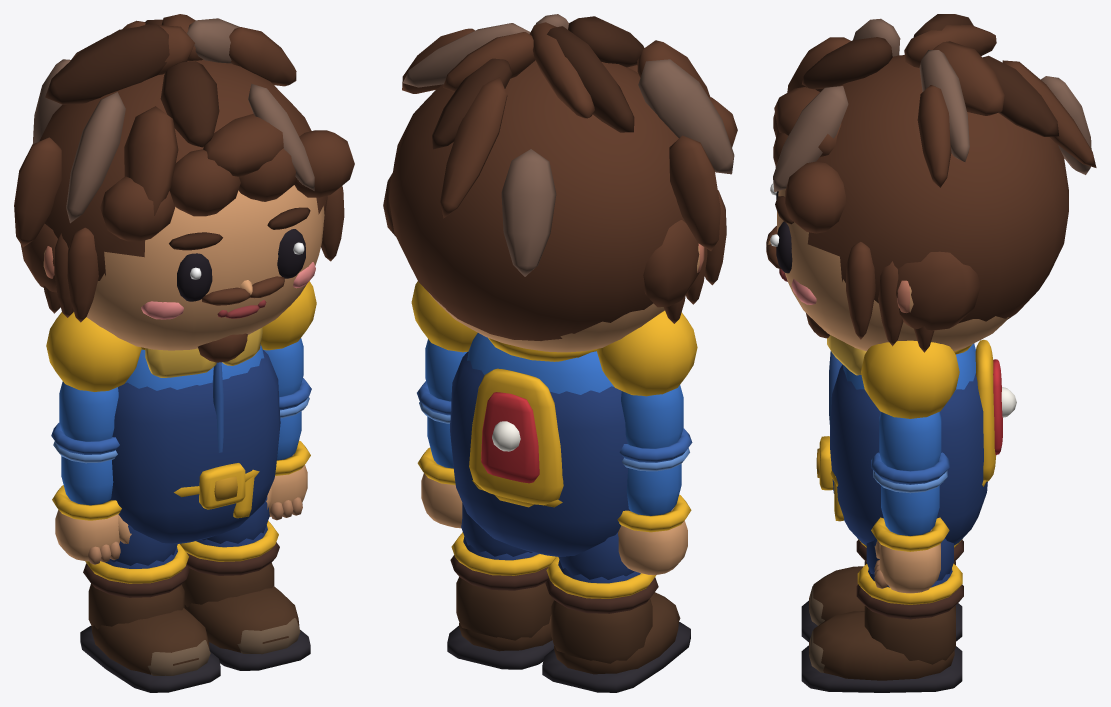
The model's file is ruler-b.glb.
3 renders of one model, left to right at view 1: azimuth 30°, elevation 25°; view 2: azimuth 150°, elevation 25°; view 3: azimuth 270°, elevation 25°, orthographic. The views are drawn at different scales.
Visible parts, largest first — view 1: hair, torso, head, shin_r, shin_l, arm_r, arm_l, hand_r, leg_r, hand_l, eye_r, leg_l (+1 smaller); view 2: hair, torso, shin_r, shin_l, arm_r, arm_l, head, hand_r, leg_r, hand_l, leg_l; view 3: hair, torso, shin_l, arm_l, head, shin_r, hand_l, leg_l, eye_l.
Boxes of the visible parts, <box> form: hair: <box>14,14,354,362</box>; torso: <box>46,281,316,543</box>; head: <box>43,185,324,350</box>; shin_r: <box>80,544,220,692</box>; shin_l: <box>180,520,310,670</box>; arm_r: <box>51,381,121,520</box>; arm_l: <box>264,338,311,475</box>; hand_r: <box>55,497,131,564</box>; leg_r: <box>105,525,177,568</box>; hand_l: <box>266,454,307,520</box>; eye_r: <box>177,253,212,301</box>; leg_l: <box>196,496,269,547</box>; hair: <box>383,14,737,340</box>; torso: <box>411,281,697,556</box>; shin_r: <box>542,556,690,692</box>; shin_l: <box>447,532,555,669</box>; arm_r: <box>617,385,692,532</box>; arm_l: <box>417,339,466,484</box>; head: <box>428,243,704,352</box>; hand_r: <box>618,507,687,575</box>; leg_r: <box>558,532,640,583</box>; hand_l: <box>421,462,462,528</box>; leg_l: <box>461,503,538,560</box>; hair: <box>766,14,1096,352</box>; torso: <box>816,335,1016,545</box>; shin_l: <box>801,563,963,692</box>; arm_l: <box>871,412,949,551</box>; head: <box>767,167,1009,351</box>; shin_r: <box>801,539,963,642</box>; hand_l: <box>874,529,940,593</box>; leg_l: <box>866,538,953,587</box>; eye_l: <box>770,221,792,273</box>.
Bounding box in the file's own units: 0.5056 × 0.9772 × 0.4675.
Materials: 1 (1 with a texture image).
